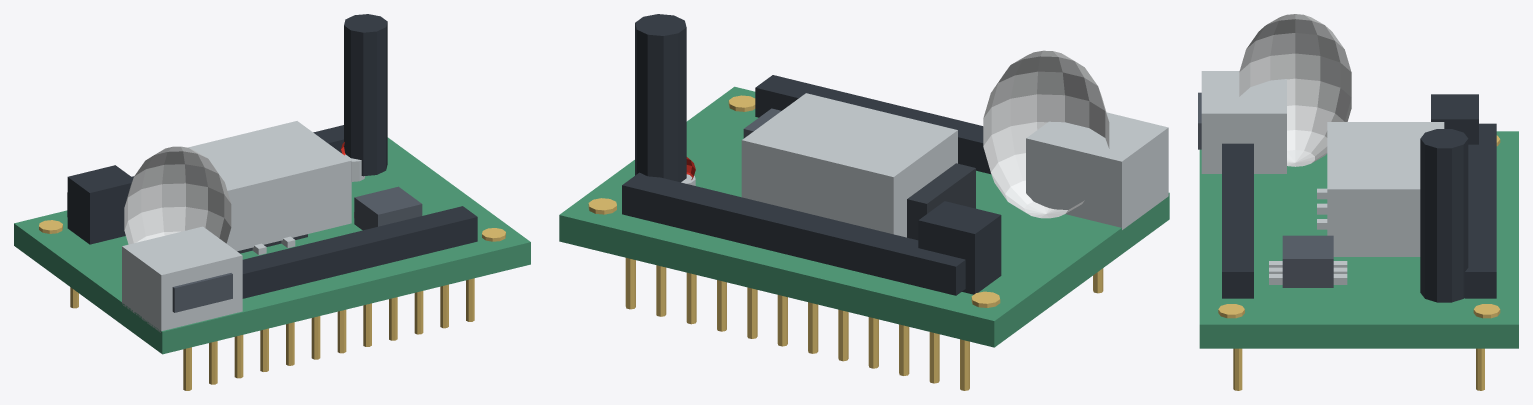
Rendered from product-24.glb.
The picture shows the model from 3 angles, left to right: view 1: azimuth 30°, elevation 25°; view 2: azimuth 150°, elevation 25°; view 3: azimuth 270°, elevation 25°; orthographic projection. The views are drawn at different scales.
Visible parts, largest first — view 1: product-24; view 2: product-24; view 3: product-24.
Part boxes in pixels (box(x1,y1,x2,y2)): product-24: box(14, 14, 530, 390); product-24: box(559, 14, 1169, 390); product-24: box(1198, 14, 1518, 390).
Bounding box in the file's own units: 0.86 × 0.51 × 0.603.
